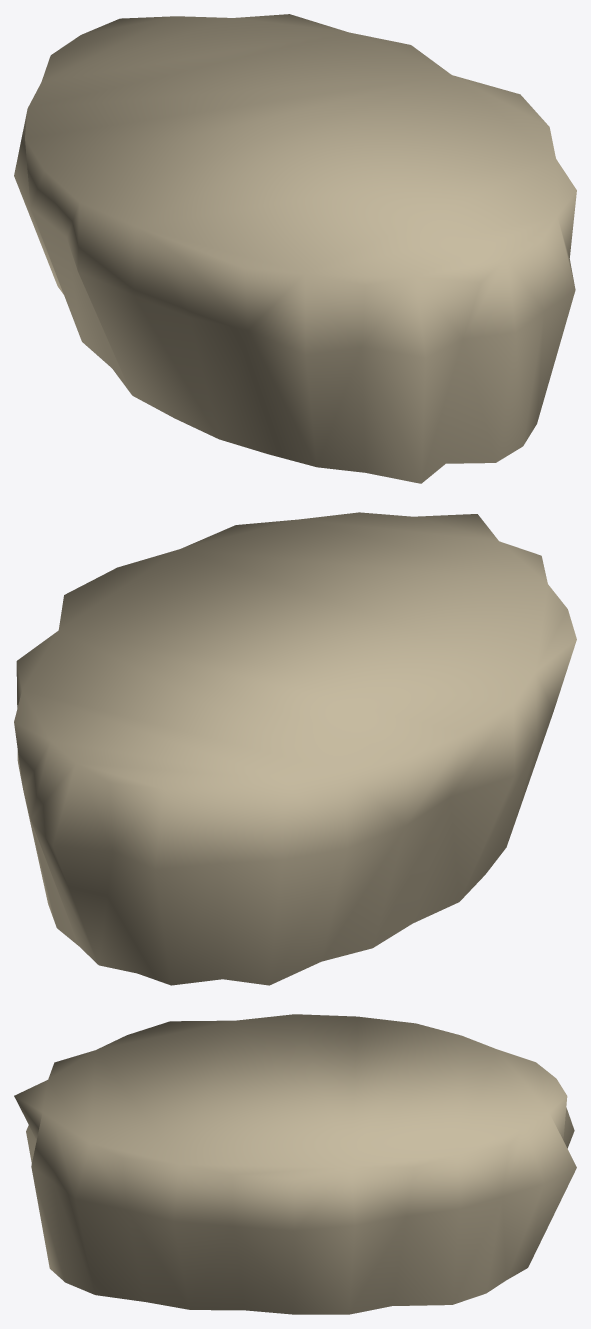
The model's file is station_rock.glb.
The picture shows the model from 3 angles, top to bottom: view 1: azimuth 30°, elevation 25°; view 2: azimuth 150°, elevation 25°; view 3: azimuth 270°, elevation 25°; orthographic projection. The views are drawn at different scales.
Parts seen in each view (by area): view 1: WarmStone; view 2: WarmStone; view 3: WarmStone.
Part boxes in pixels (left/top/right/bottom): WarmStone: left=14, top=14, right=576, bottom=483; WarmStone: left=14, top=512, right=576, bottom=985; WarmStone: left=14, top=1014, right=576, bottom=1314.
Bounding box in the file's own units: 4.56 × 2.03 × 6.55.
